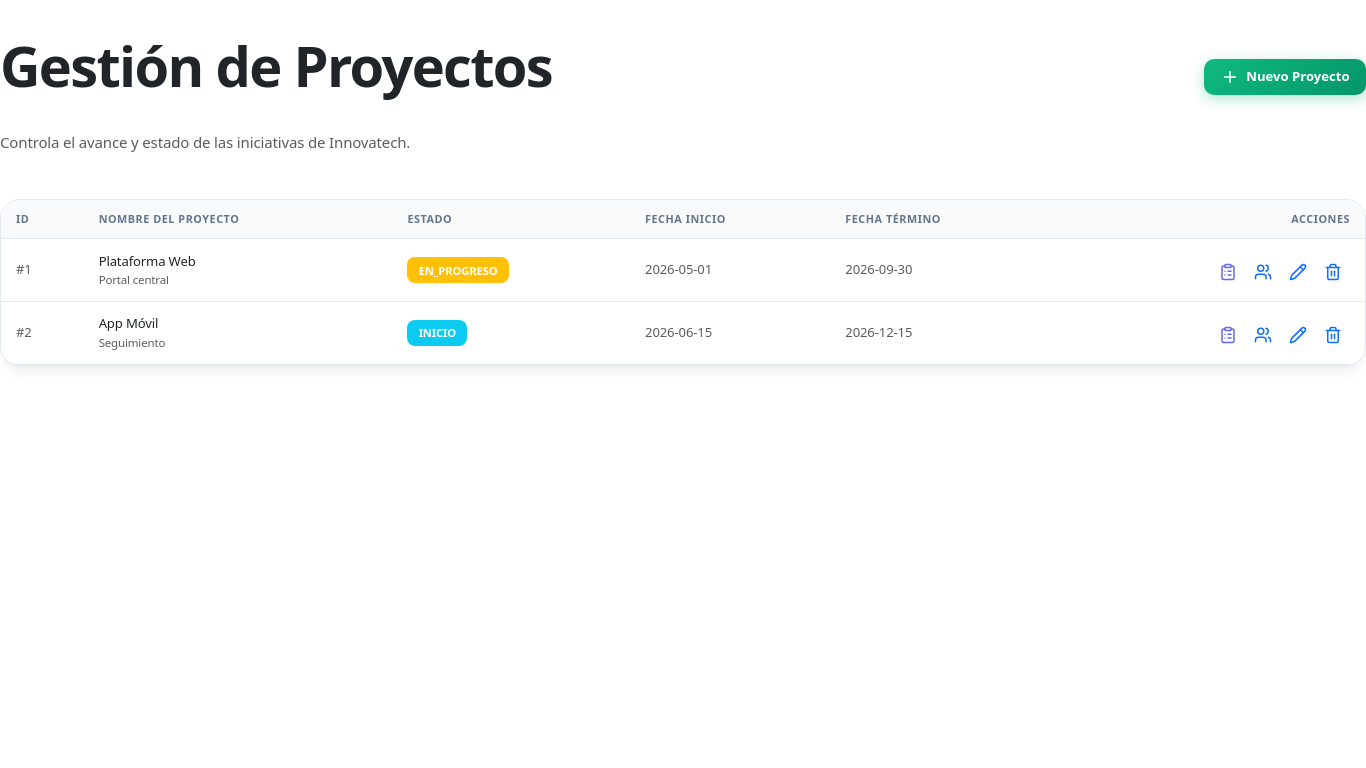
Test: ProjectsManagement › asigna un gestor al equipo y guarda el equipo del proyecto
Expected: the text "Plataforma Web" is shown, 99,252 -> 196,270
Click the button titled "Gestionar Equipo" in the row of "Plataforma Web": (1262, 270) 1245,251 -> 1280,290
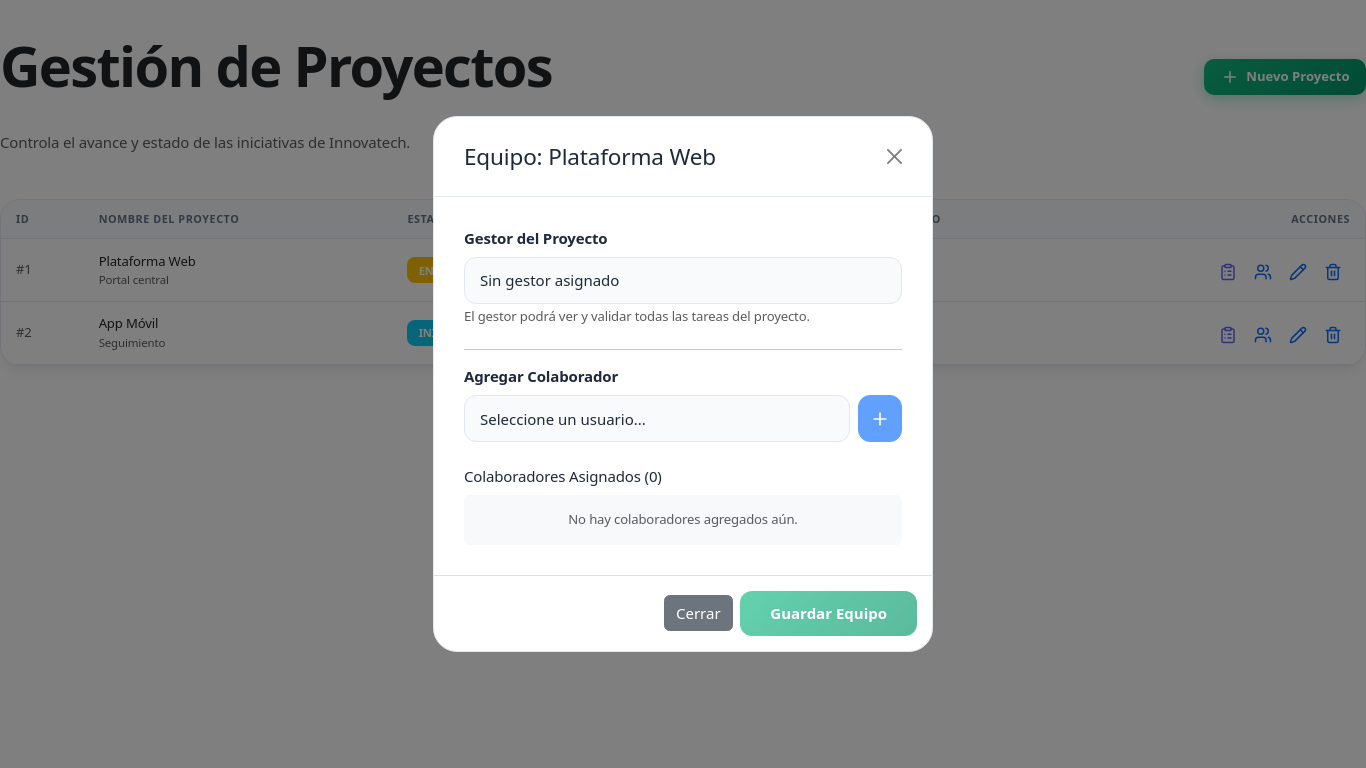
Select "Gestora Ana" in the dropdown below "Gestor del Proyecto": (683, 281) 464,257 -> 902,304
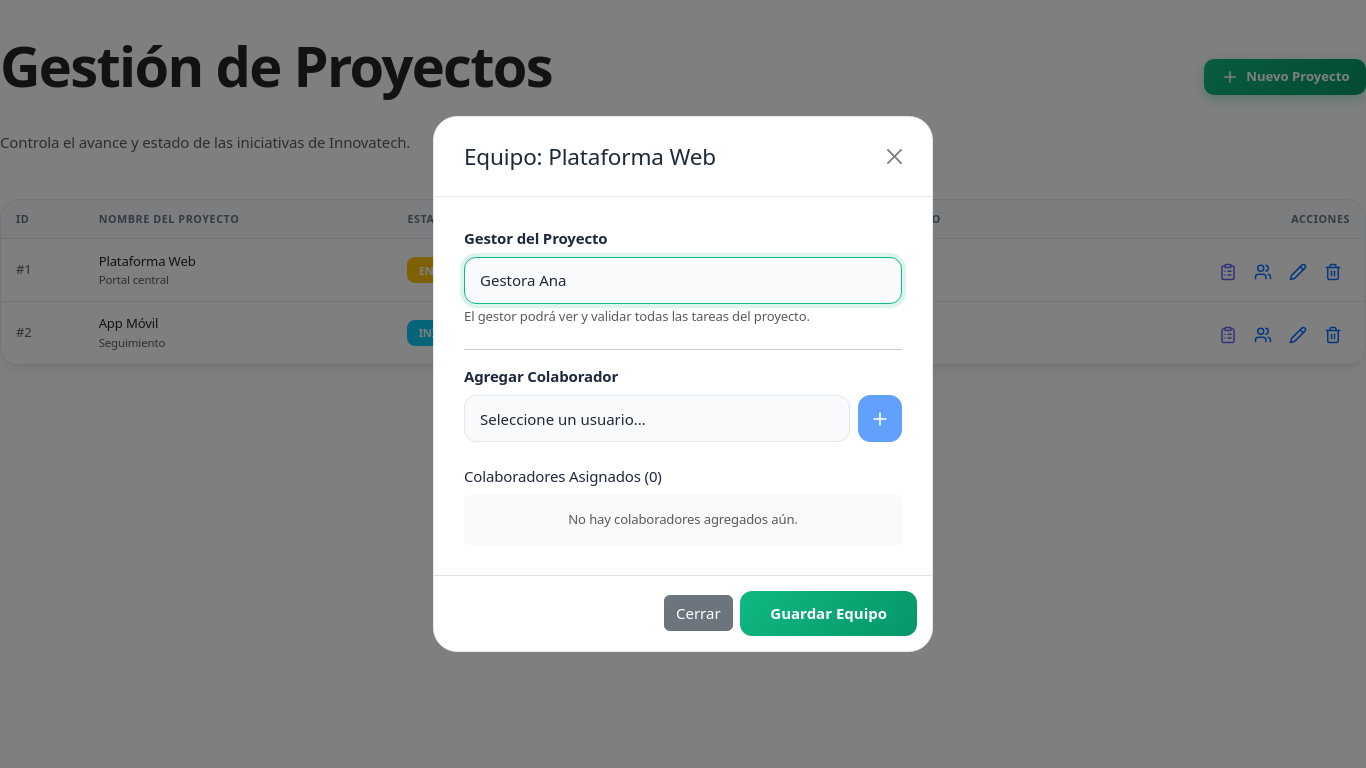
Click the button "Guardar Equipo": (829, 613) 740,591 -> 917,636
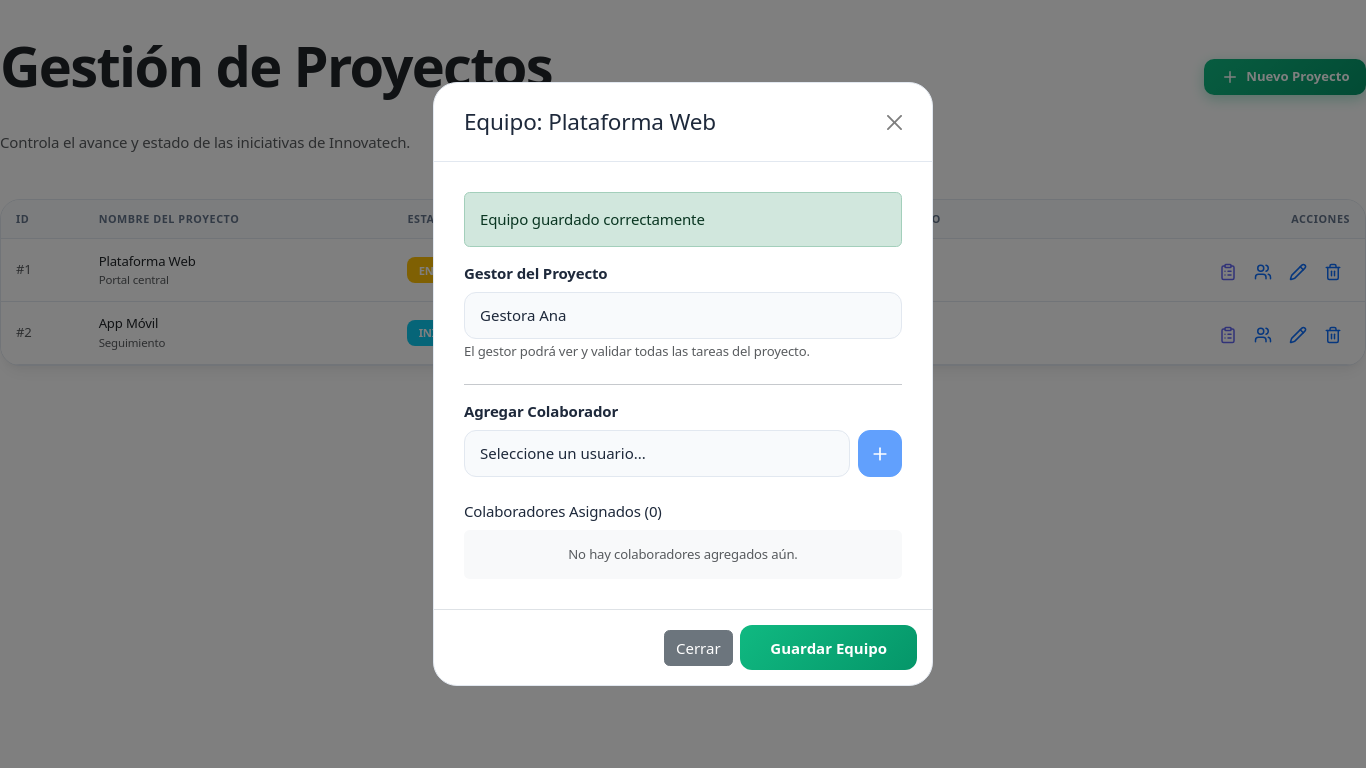
Expected: the text "Equipo guardado correctamente" is shown, 464,192 -> 902,247
